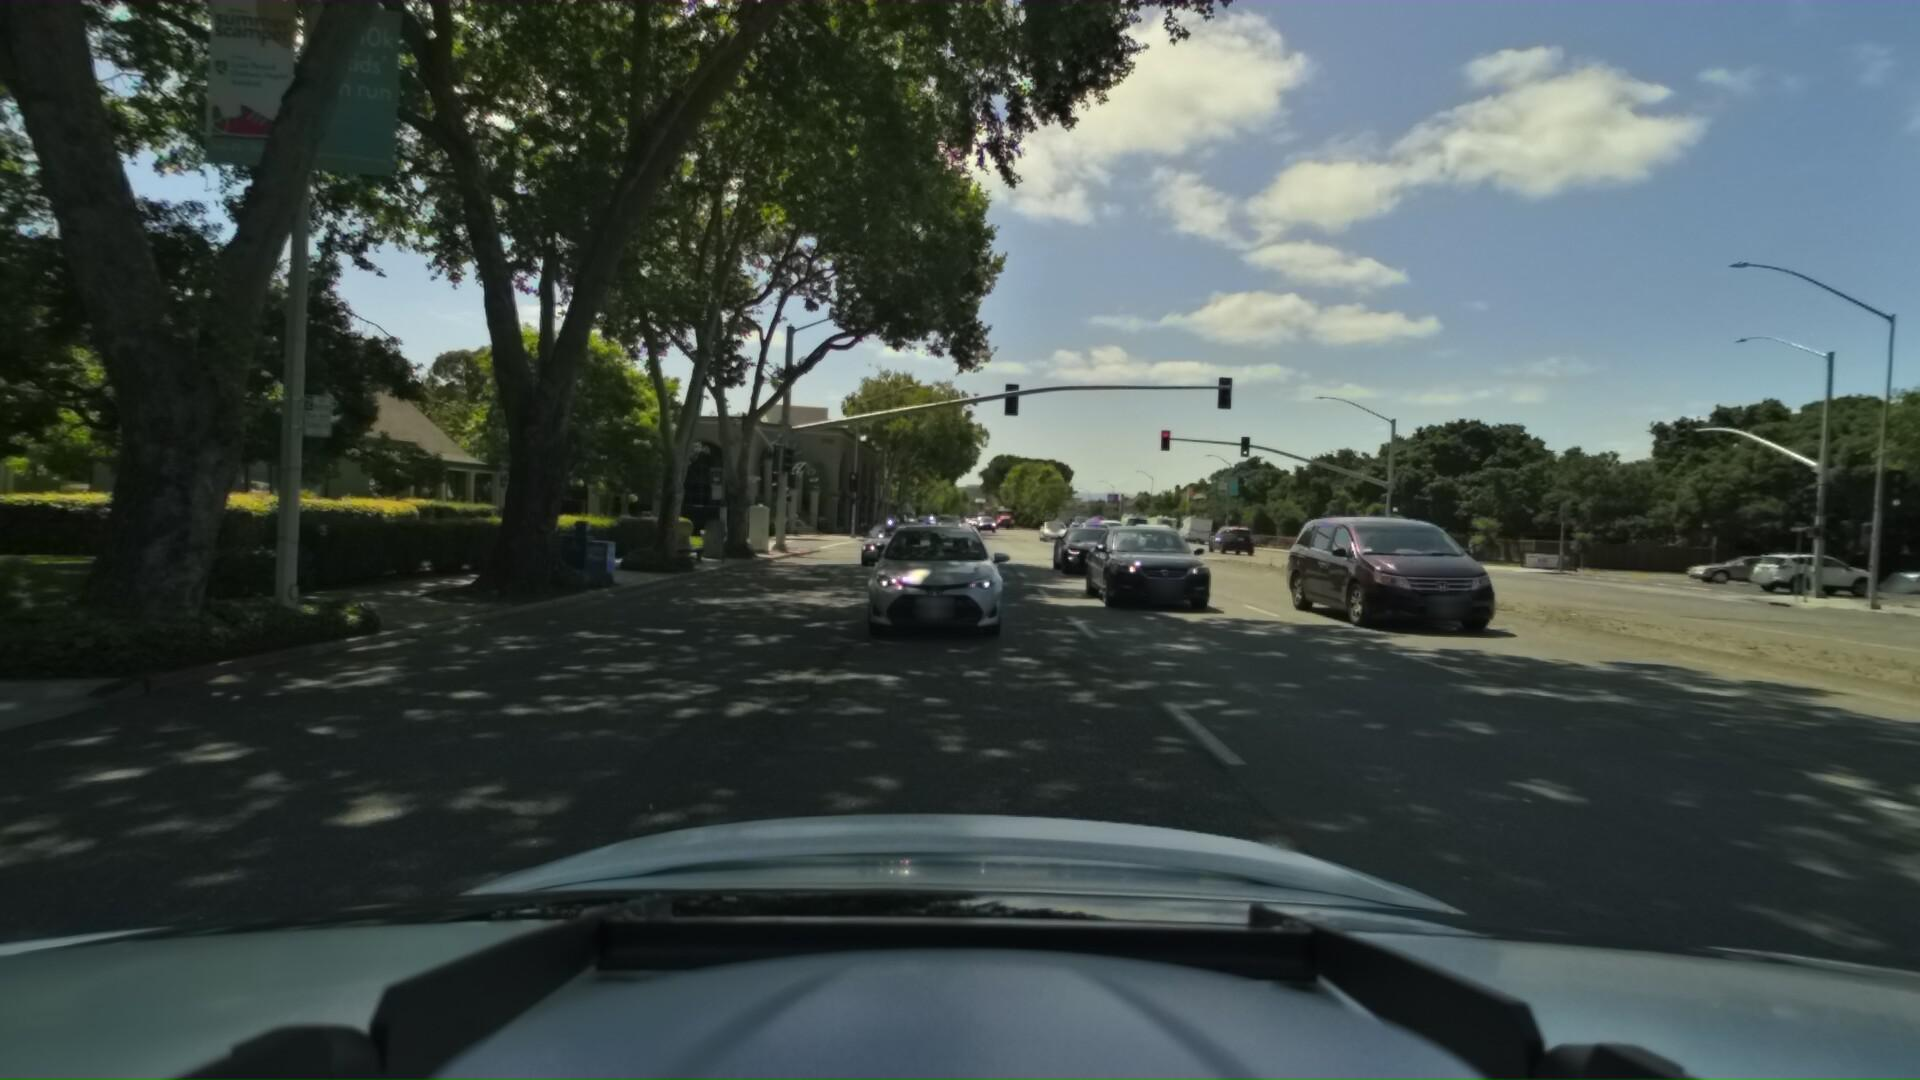car: (1258, 501, 1477, 624), (852, 512, 1006, 647), (1071, 506, 1201, 595), (1720, 545, 1863, 595), (1662, 545, 1805, 587), (1040, 514, 1120, 570), (848, 512, 916, 564), (1858, 551, 1920, 601), (1116, 512, 1183, 554), (1204, 514, 1258, 553), (1065, 513, 1117, 546), (1114, 510, 1150, 537), (1033, 516, 1067, 539), (890, 506, 920, 533), (935, 512, 963, 538), (930, 505, 957, 524)
